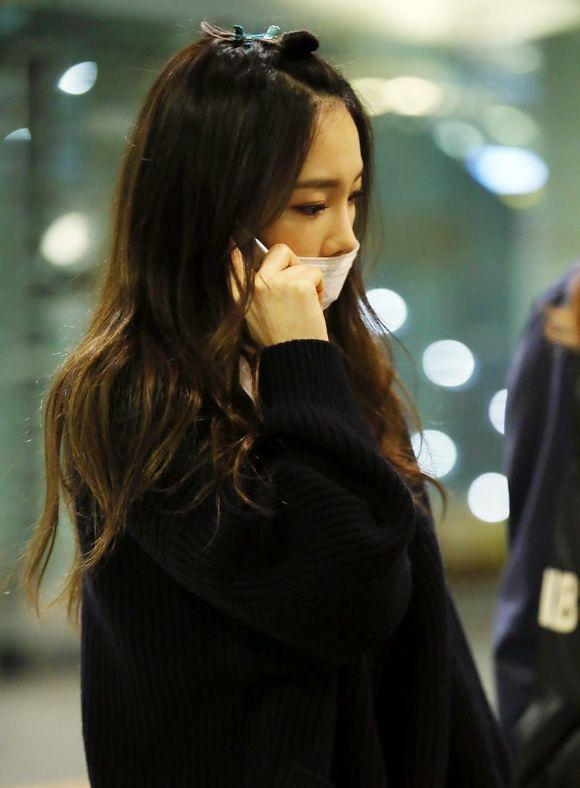WRONG: (223, 167, 383, 327)
